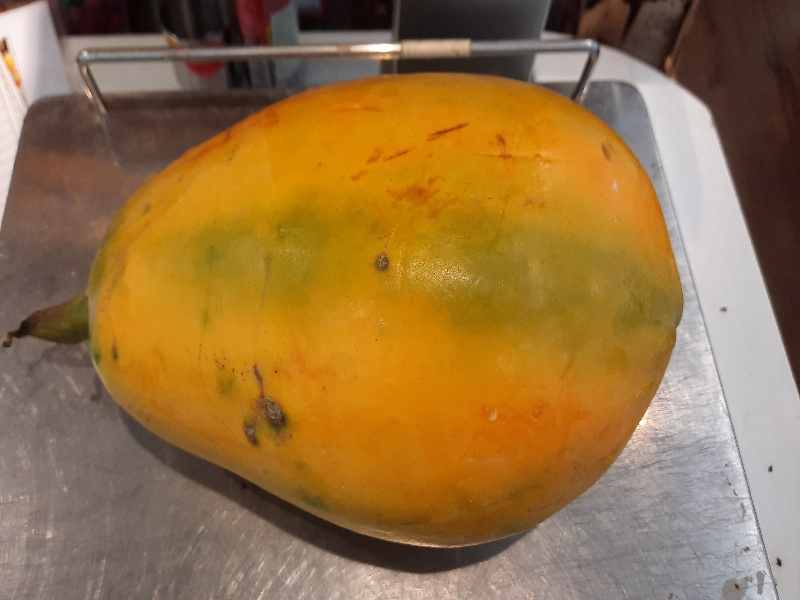fruit: (14, 71, 685, 553)
